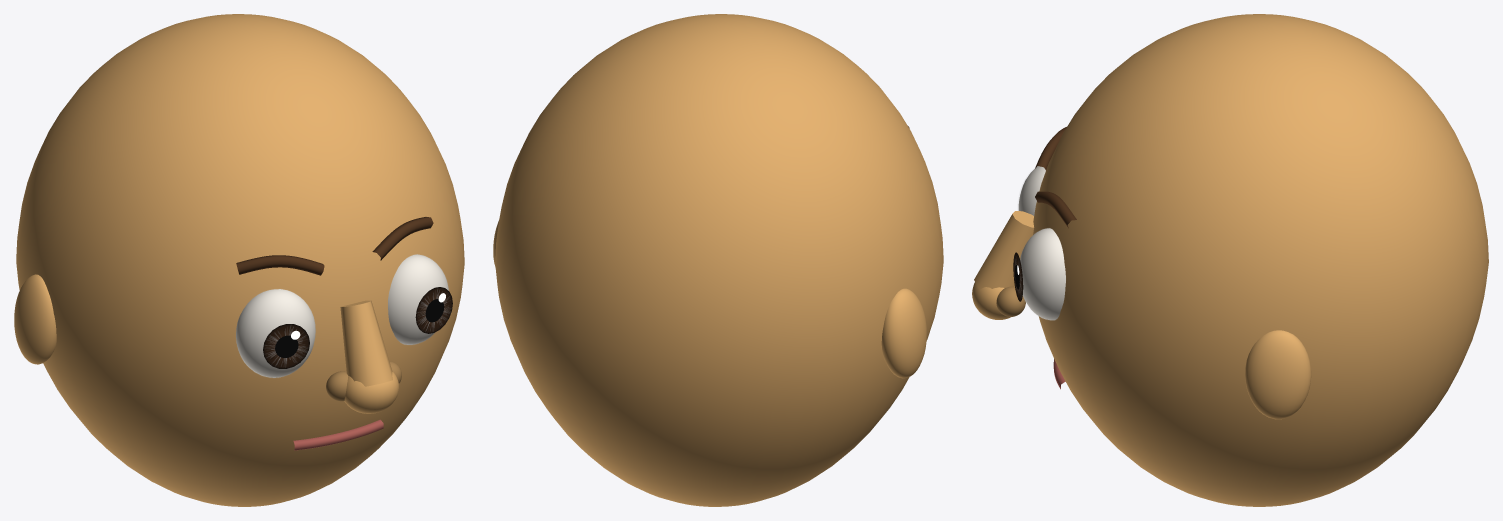
File: 08-bulbeux.glb
3 views of the same model, side by side, from view 1: azimuth 30°, elevation 25°; view 2: azimuth 150°, elevation 25°; view 3: azimuth 270°, elevation 25° (orthographic).
Bounding box in the file's own units: 0.3087 × 0.321 × 0.3274.
Materials: 9 (1 with a texture image).
